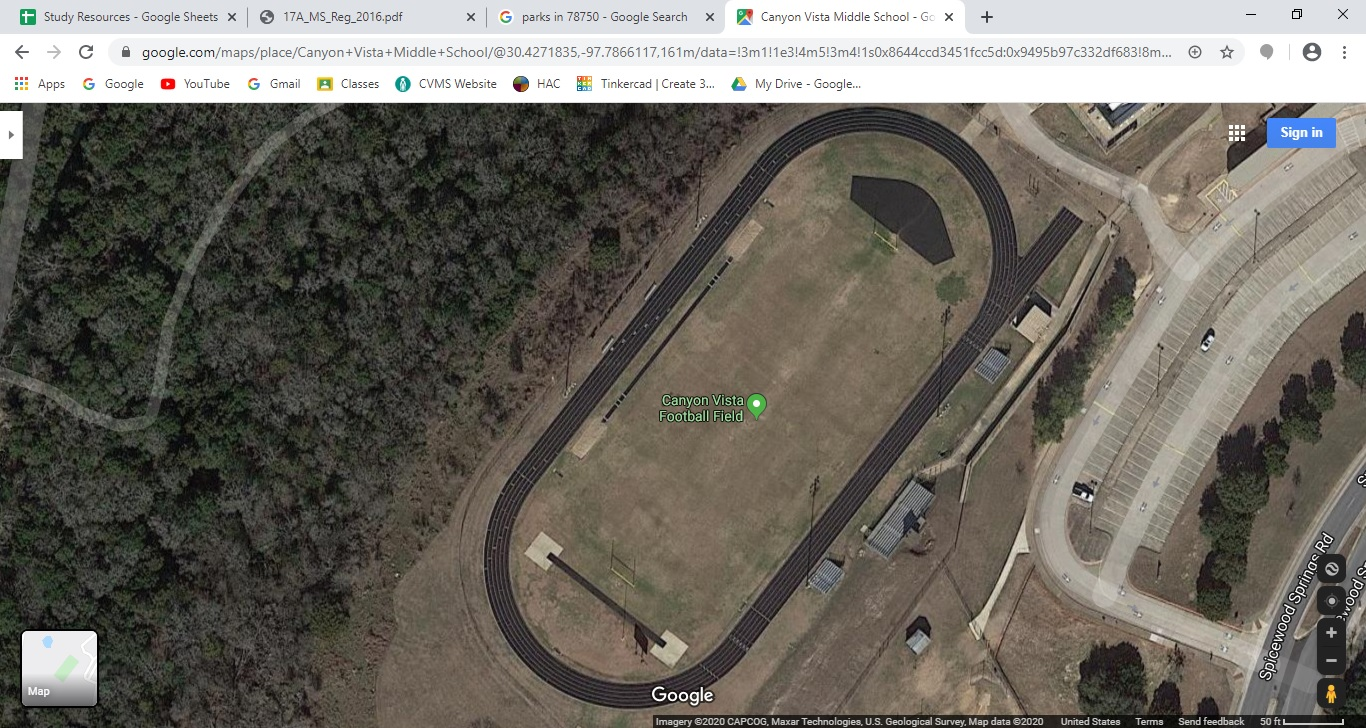soccer: (437, 110, 995, 714)
